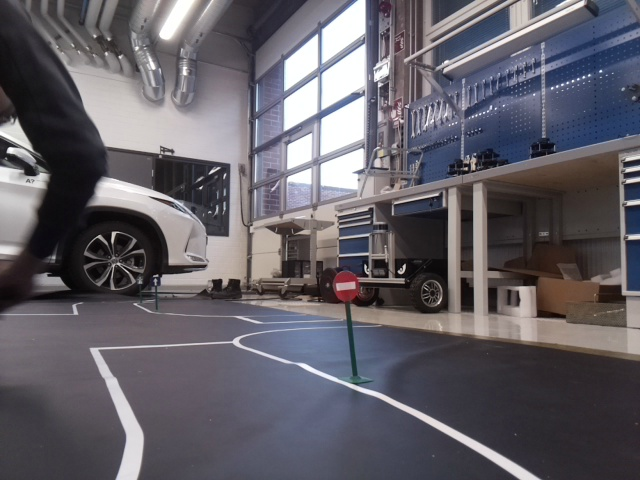NoEntry: (333, 270, 357, 298)
